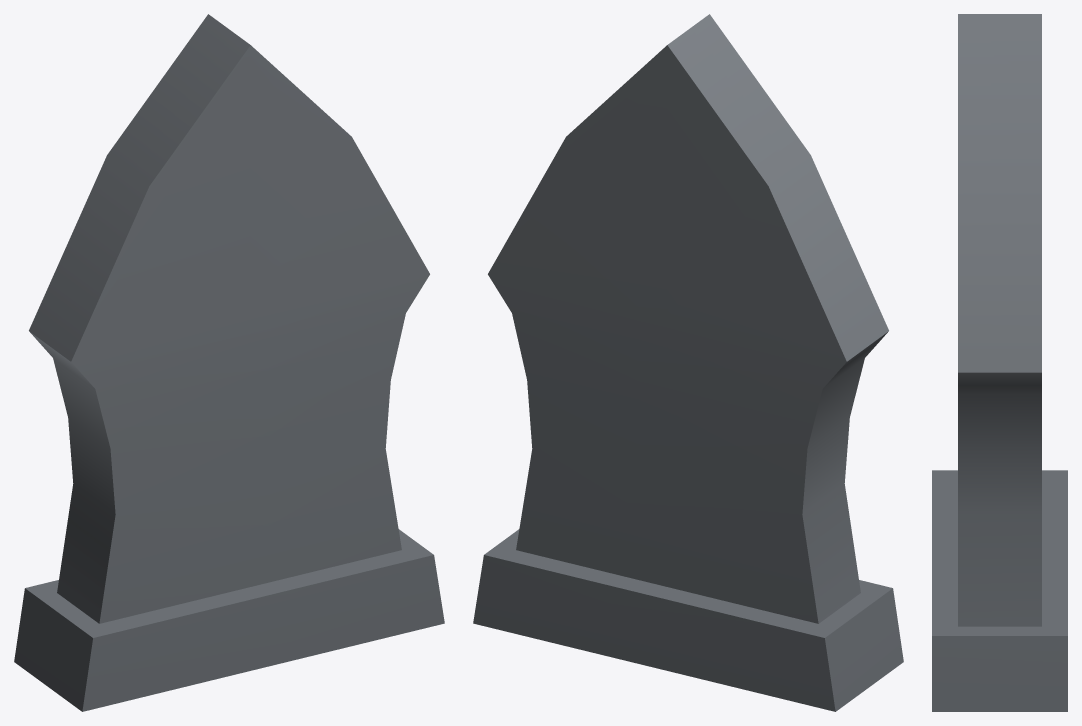
Rendered from grave_stone1.fbx.
The picture shows the model from 3 angles, left to right: view 1: azimuth 30°, elevation 25°; view 2: azimuth 150°, elevation 25°; view 3: azimuth 270°, elevation 25°; orthographic projection.
Visible parts, largest first — view 1: grave_stone1; view 2: grave_stone1; view 3: grave_stone1.
Boxes of the visible parts, <box> form: grave_stone1: <box>14,14,444,711</box>; grave_stone1: <box>473,14,903,711</box>; grave_stone1: <box>932,14,1067,711</box>.
Bounding box in the file's own units: 4.94 × 7.98 × 1.61.
